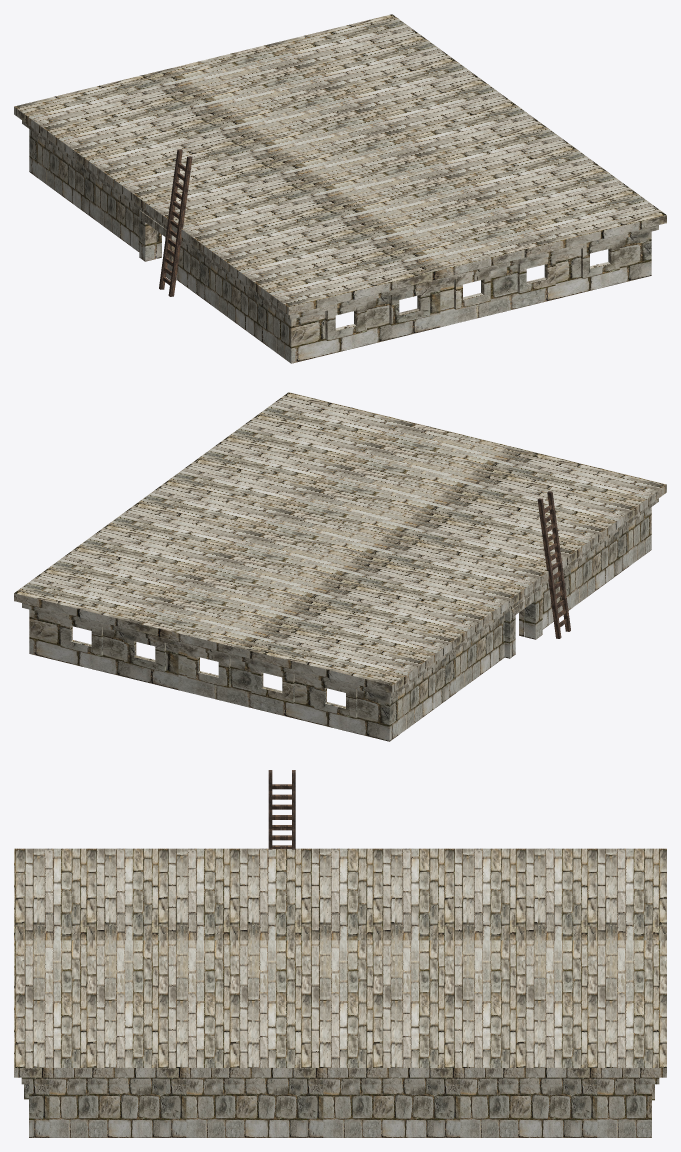
The model's file is ThirdLevelRoom.FBX.
3 views of the same model, one above another, from view 1: azimuth 30°, elevation 25°; view 2: azimuth 150°, elevation 25°; view 3: azimuth 270°, elevation 25° (orthographic). The views are drawn at different scales.
Parts seen in each view (by area): view 1: Level 3 Room, LadderSecondToThird; view 2: Level 3 Room, LadderSecondToThird; view 3: Level 3 Room, LadderSecondToThird.
Boxes of the visible parts, x1,y1,x2,y2 form: Level 3 Room: (14,14,666,363); LadderSecondToThird: (159,149,192,296); Level 3 Room: (14,392,666,741); LadderSecondToThird: (537,491,570,638); Level 3 Room: (14,848,666,1137); LadderSecondToThird: (268,770,295,849).
Size of the model in its own units: 314 by 104 by 383.
2 materials, 2 textured.
